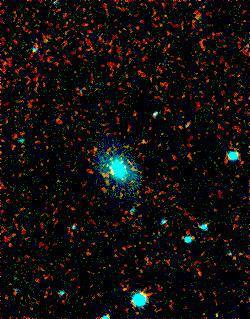star: (79, 133, 109, 163)
